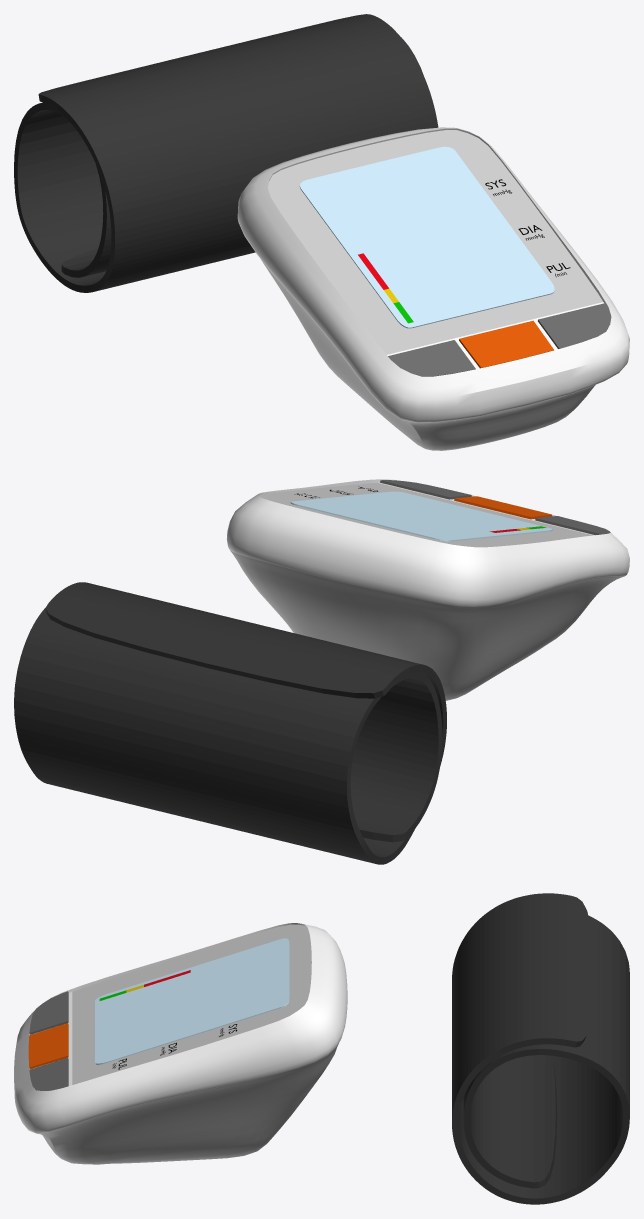
File: BPMonitor.fbx
3 views of the same model, one above another, from view 1: azimuth 30°, elevation 25°; view 2: azimuth 150°, elevation 25°; view 3: azimuth 270°, elevation 25° (orthographic). The views are drawn at different scales.
Visible parts, largest first — view 1: BPMonitor_Cuff, BPMonitor_Base, BPMonitor_OutputDisplay, BPMonitor_Screen, BPMonitor_Power, BPMonitor_M2, BPMonitor_M1; view 2: BPMonitor_Cuff, BPMonitor_Base, BPMonitor_OutputDisplay, BPMonitor_Screen, BPMonitor_Power, BPMonitor_M2, BPMonitor_M1; view 3: BPMonitor_Cuff, BPMonitor_Base, BPMonitor_OutputDisplay, BPMonitor_Screen, BPMonitor_Power, BPMonitor_M1, BPMonitor_M2.
Part boxes in pixels (left/top/right/bottom): BPMonitor_Cuff: left=14, top=14, right=438, bottom=292; BPMonitor_Base: left=237, top=127, right=629, bottom=450; BPMonitor_OutputDisplay: left=299, top=146, right=554, bottom=328; BPMonitor_Screen: left=268, top=130, right=603, bottom=368; BPMonitor_Power: left=459, top=320, right=553, bottom=368; BPMonitor_M2: left=538, top=303, right=611, bottom=348; BPMonitor_M1: left=388, top=340, right=475, bottom=376; BPMonitor_Cuff: left=14, top=582, right=446, bottom=864; BPMonitor_Base: left=227, top=479, right=629, bottom=700; BPMonitor_OutputDisplay: left=290, top=491, right=552, bottom=541; BPMonitor_Screen: left=259, top=482, right=594, bottom=547; BPMonitor_Power: left=454, top=496, right=551, bottom=519; BPMonitor_M2: left=380, top=480, right=471, bottom=499; BPMonitor_M1: left=535, top=516, right=610, bottom=535; BPMonitor_Cuff: left=452, top=893, right=629, bottom=1204; BPMonitor_Base: left=14, top=923, right=347, bottom=1164; BPMonitor_OutputDisplay: left=95, top=938, right=289, bottom=1064; BPMonitor_Screen: left=30, top=924, right=311, bottom=1085; BPMonitor_Power: left=28, top=1023, right=68, bottom=1069; BPMonitor_M1: left=29, top=991, right=68, bottom=1034; BPMonitor_M2: left=29, top=1057, right=68, bottom=1090.
Size of the model in its own units: 26.02 by 14.67 by 45.78.
